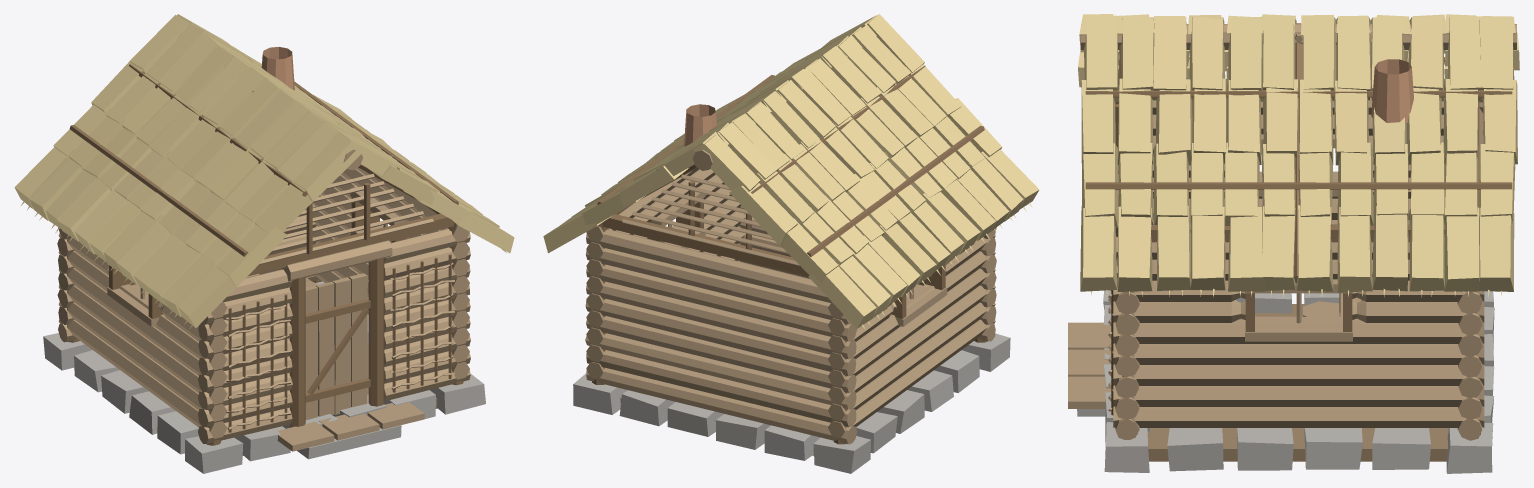
File: building_workshop_shed_complete.glb
3 views of the same model, side by side, from view 1: azimuth 30°, elevation 25°; view 2: azimuth 150°, elevation 25°; view 3: azimuth 270°, elevation 25° (orthographic). The views are drawn at different scales.
Visible parts, largest first — view 1: building_workshop_shed_complete; view 2: building_workshop_shed_complete; view 3: building_workshop_shed_complete.
Part boxes in pixels (x1=…): building_workshop_shed_complete: x1=14, y1=14, x2=514, y2=473; building_workshop_shed_complete: x1=543, y1=14, x2=1039, y2=473; building_workshop_shed_complete: x1=1068, y1=14, x2=1519, y2=473.
Size of the model in its own units: 3.97 by 3.56 by 3.9.
